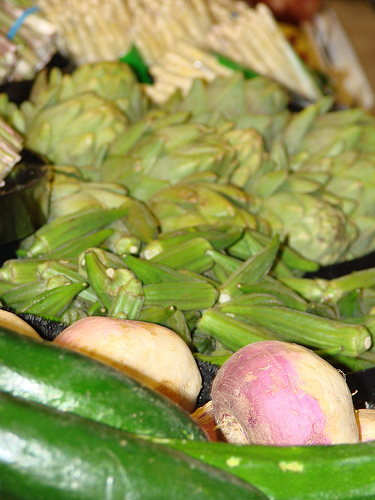cucumber: (0, 386, 271, 498), (1, 327, 210, 440), (171, 441, 373, 498)
